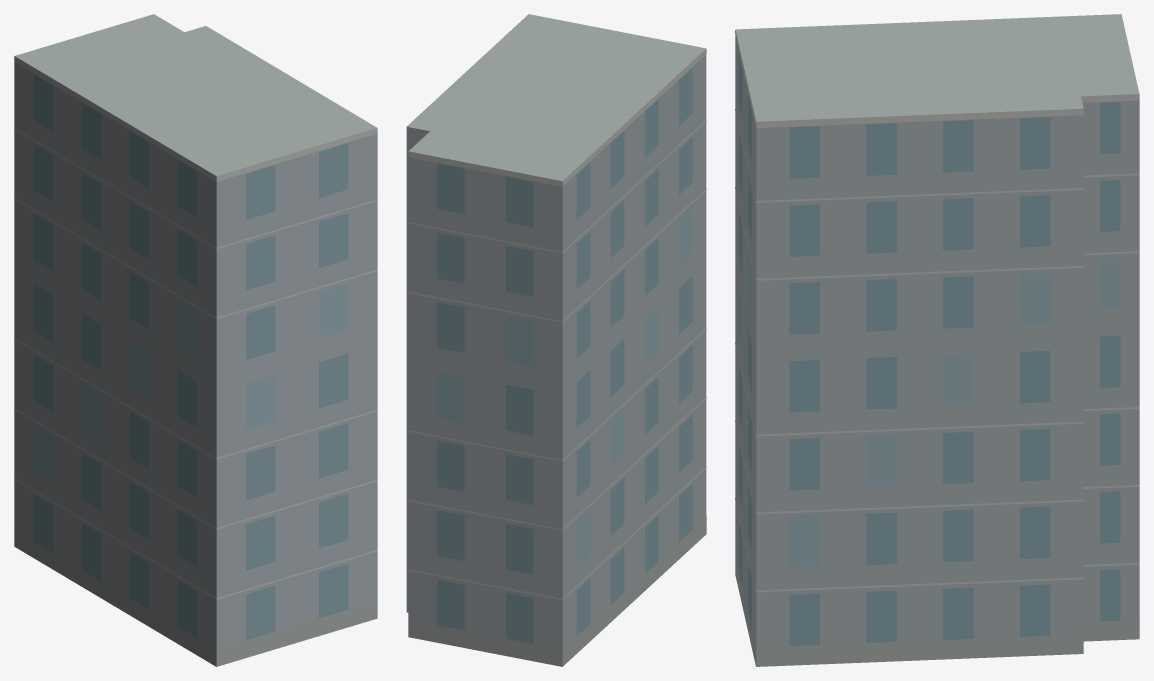
Rendered from survey-upis-33030024.glb.
3 renders of one model, left to right at view 1: azimuth 30°, elevation 25°; view 2: azimuth 150°, elevation 25°; view 3: azimuth 270°, elevation 25°, orthographic. The views are drawn at different scales.
Visible parts, largest first — view 1: survey-upis-33030024.tmp; view 2: survey-upis-33030024.tmp; view 3: survey-upis-33030024.tmp.
Part boxes in pixels (box(x1,y1,x2,y2)): survey-upis-33030024.tmp: box(14, 14, 377, 666); survey-upis-33030024.tmp: box(406, 14, 706, 666); survey-upis-33030024.tmp: box(735, 14, 1139, 666).
Bounding box in the file's own units: 8.75 × 20.6 × 13.87.
